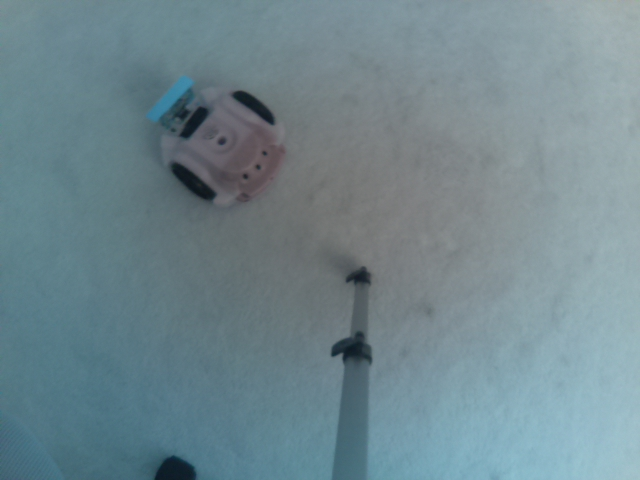board: (140, 79, 203, 128)
chassis: (139, 69, 295, 214)
